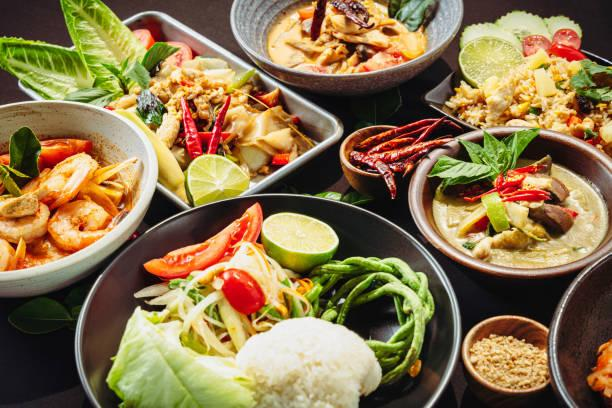Braised Crucian Carp: (75, 194, 456, 405), (23, 10, 341, 204), (406, 127, 608, 283), (3, 99, 159, 293), (426, 20, 612, 147), (231, 0, 455, 97)
